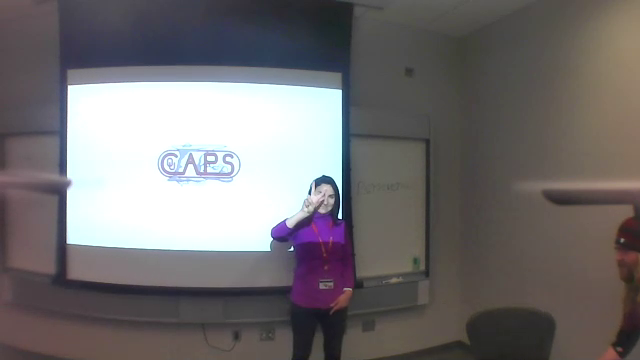peace: (296, 175, 332, 216)
